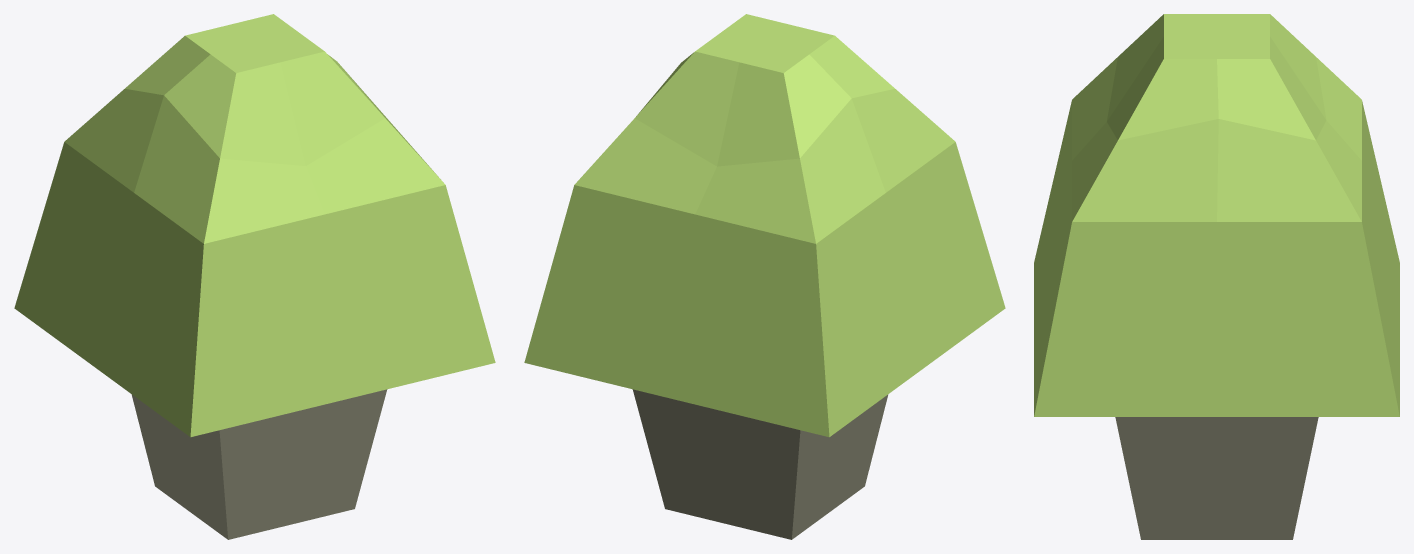
The model's file is Mushroom 1.fbx.
3 renders of one model, left to right at view 1: azimuth 30°, elevation 25°; view 2: azimuth 150°, elevation 25°; view 3: azimuth 270°, elevation 25°, orthographic. The views are drawn at different scales.
Parts seen in each view (by area): view 1: Cube; view 2: Cube; view 3: Cube.
Boxes of the visible parts, box(x1,y1,x2,y2) form: Cube: box(14, 14, 495, 539); Cube: box(524, 14, 1005, 539); Cube: box(1034, 14, 1399, 539).
Bounding box in the file's own units: 0.6925 × 0.6925 × 0.985.
